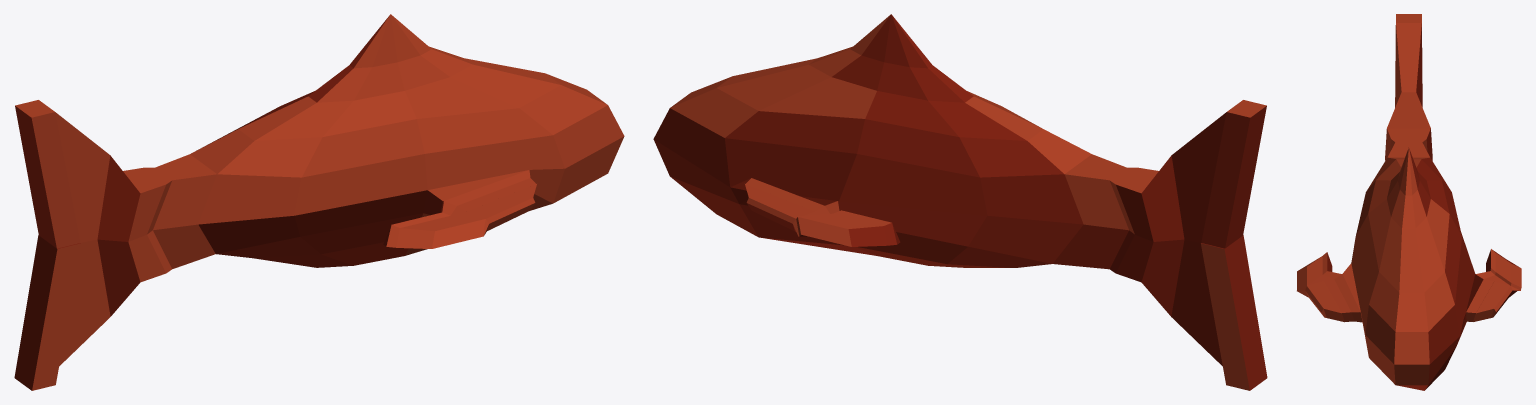
File: colorfish1.glb
3 views of the same model, side by side, from view 1: azimuth 30°, elevation 25°; view 2: azimuth 150°, elevation 25°; view 3: azimuth 270°, elevation 25° (orthographic). The views are drawn at different scales.
Visible parts, largest first — view 1: Sphere; view 2: Sphere; view 3: Sphere.
Boxes of the visible parts, x1,y1,x2,y2 form: Sphere: [14, 14, 624, 390]; Sphere: [653, 14, 1267, 390]; Sphere: [1297, 14, 1521, 390].
Size of the model in its own units: 6.93 by 3.14 by 2.94.
Materials: 1 (1 with a texture image).
